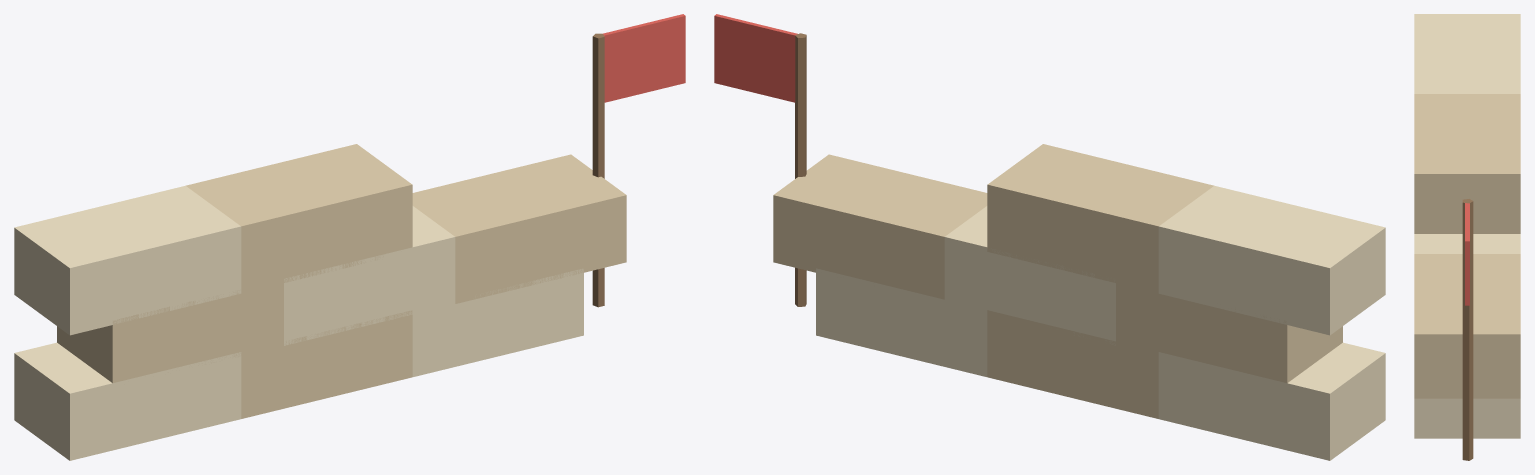
The model's file is Barricade.fbx.
3 renders of one model, left to right at view 1: azimuth 30°, elevation 25°; view 2: azimuth 150°, elevation 25°; view 3: azimuth 270°, elevation 25°, orthographic. The views are drawn at different scales.
Visible parts, largest first — view 1: Body; view 2: Body; view 3: Body.
Boxes of the visible parts, bbox=[...] form: Body: bbox=[14, 14, 685, 460]; Body: bbox=[714, 14, 1385, 460]; Body: bbox=[1414, 14, 1520, 460].
Size of the model in its own units: 3 by 1.2 by 0.45.
